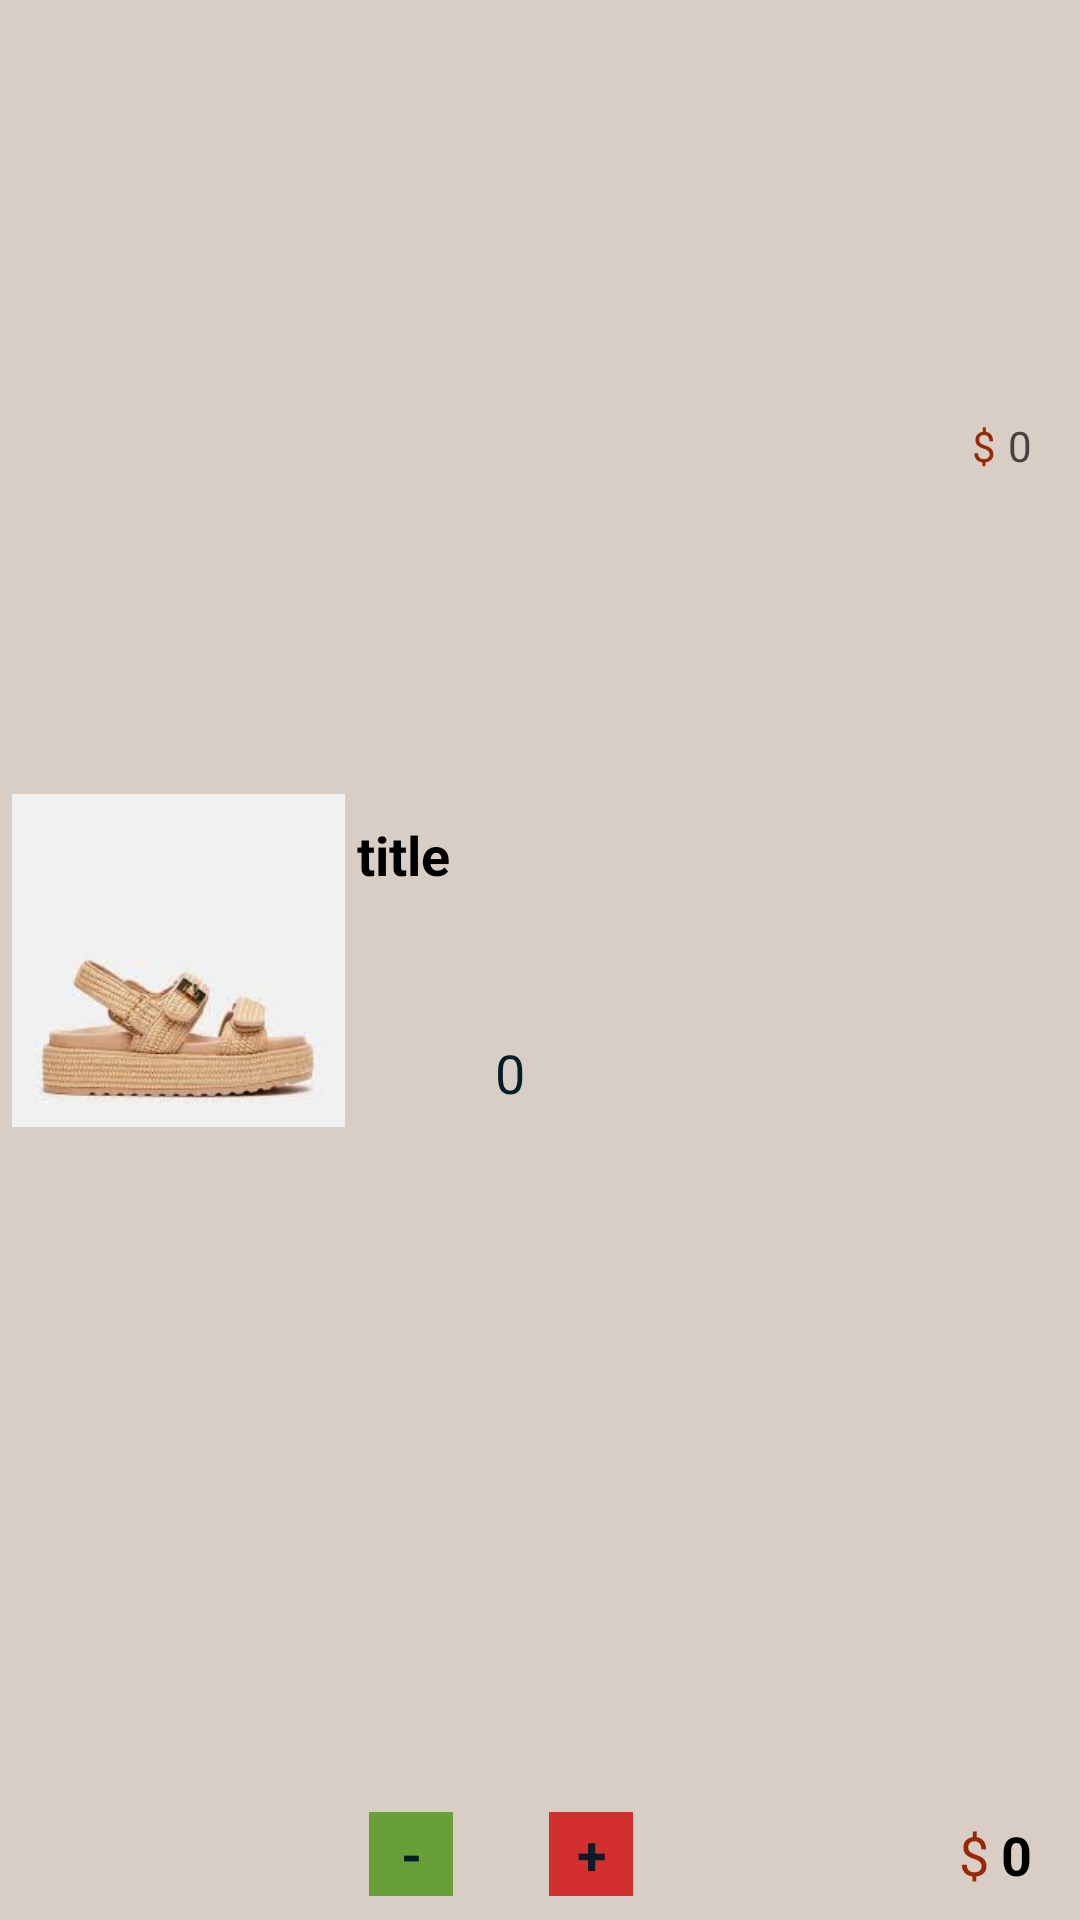

Icon click points for this 1080*1920 phone screenshot, format (x=x, y=y):
sandel lv: (x=178, y=960)
